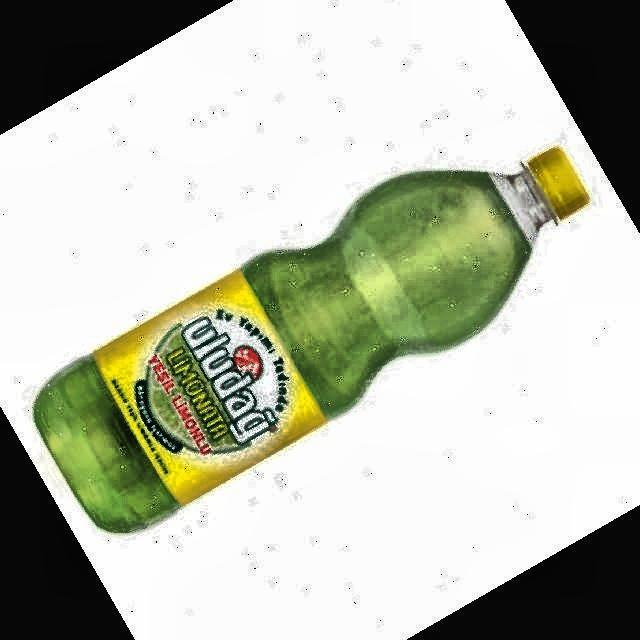plastic: (34, 148, 589, 532)
